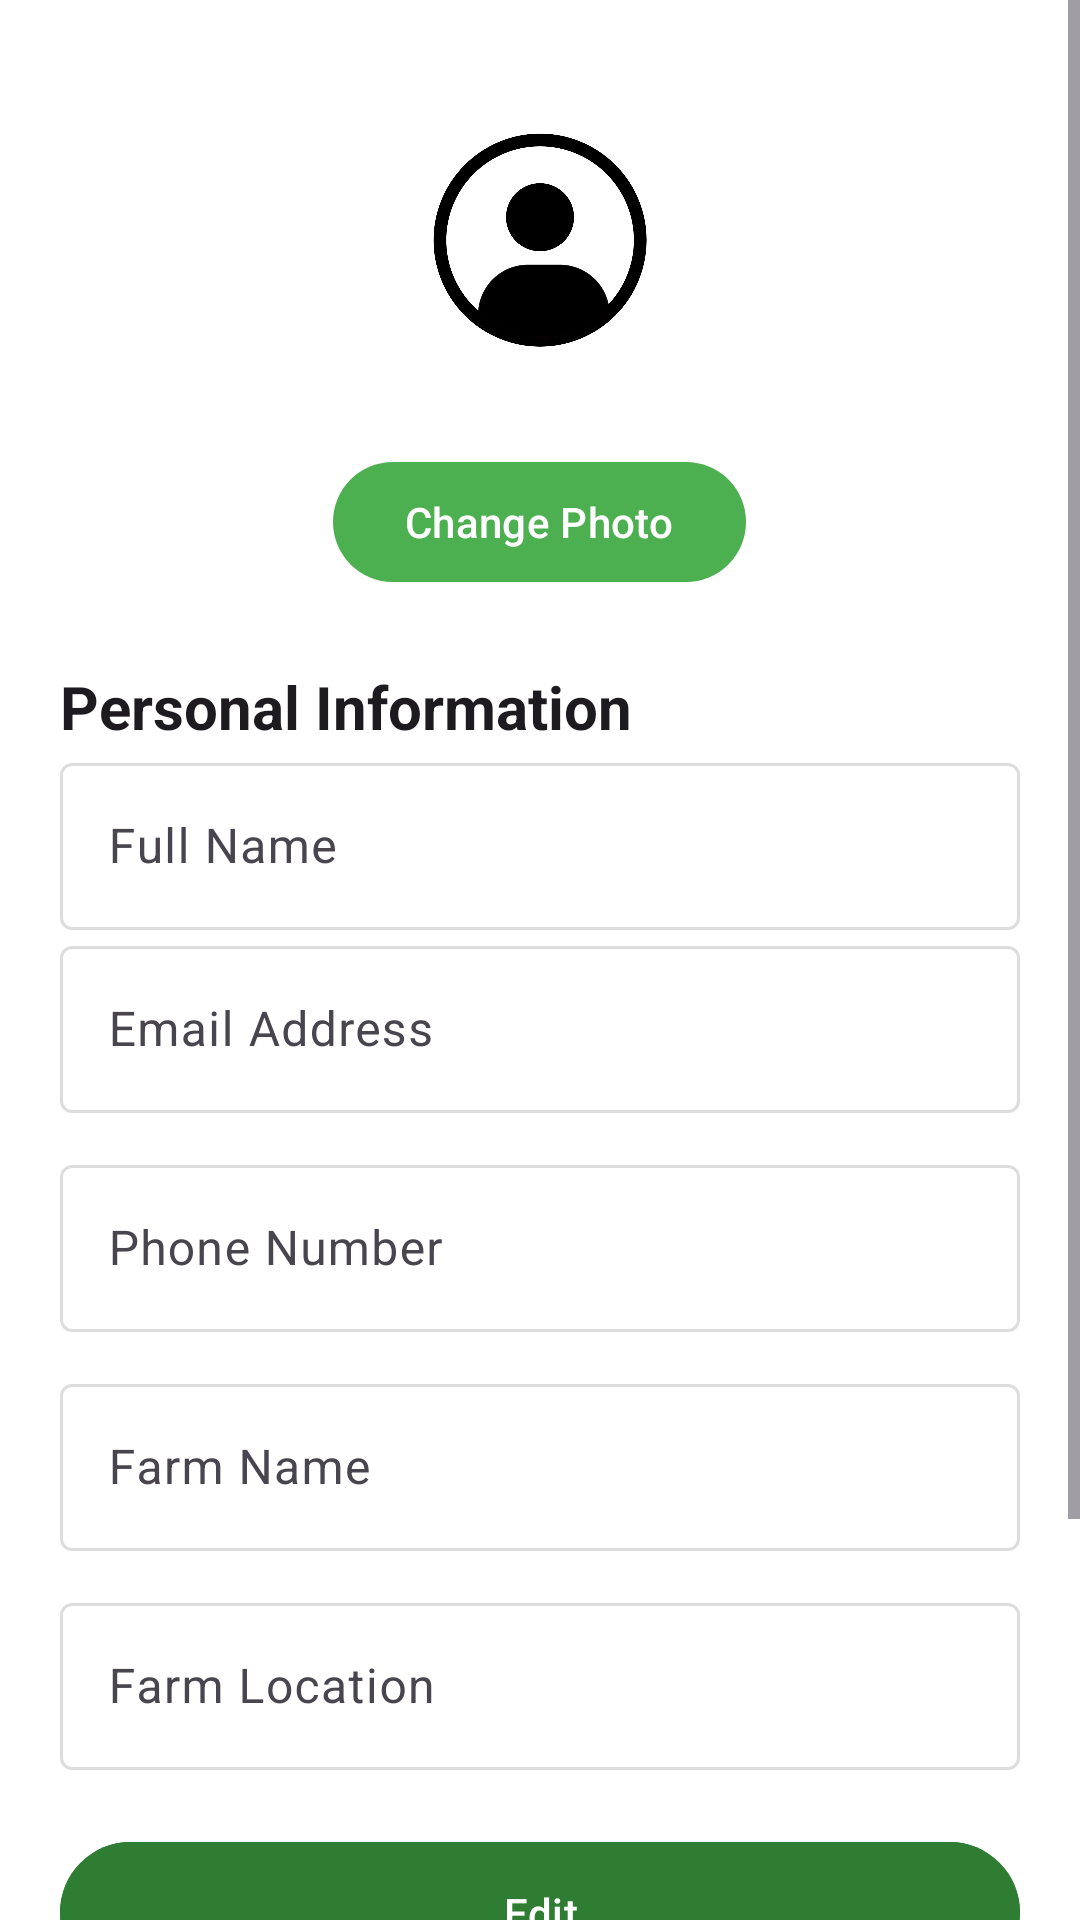

Point at icon controls on the screen. Image size 1080w x 1920h, points as (x,y).
account: (540,240)
